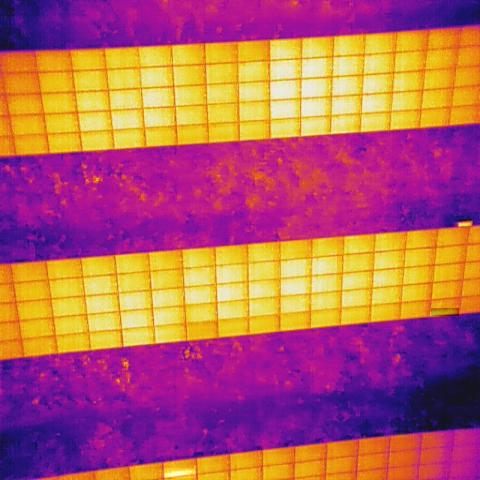fault: (163, 468, 196, 478), (431, 308, 459, 316)
